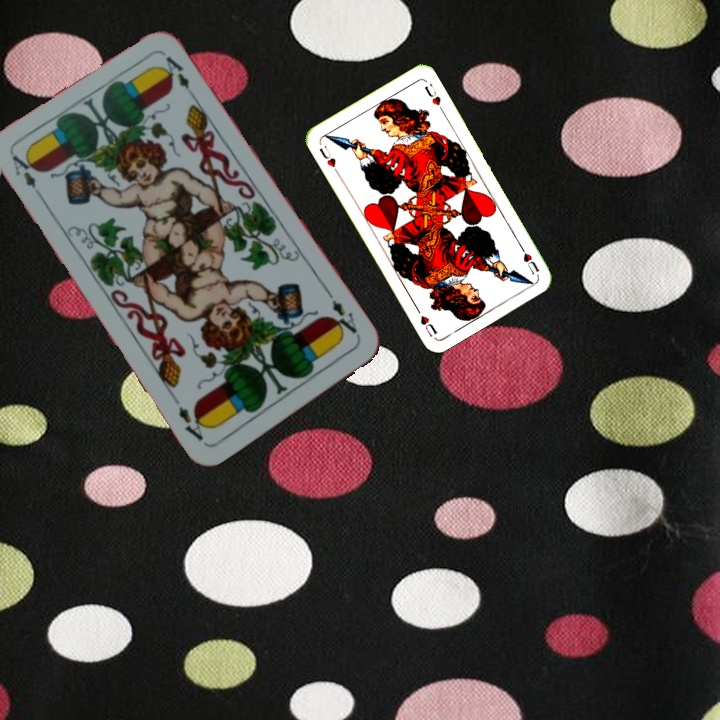EA: (8, 150, 46, 202), (327, 295, 364, 342)
HU: (515, 241, 542, 277), (315, 141, 341, 176)
